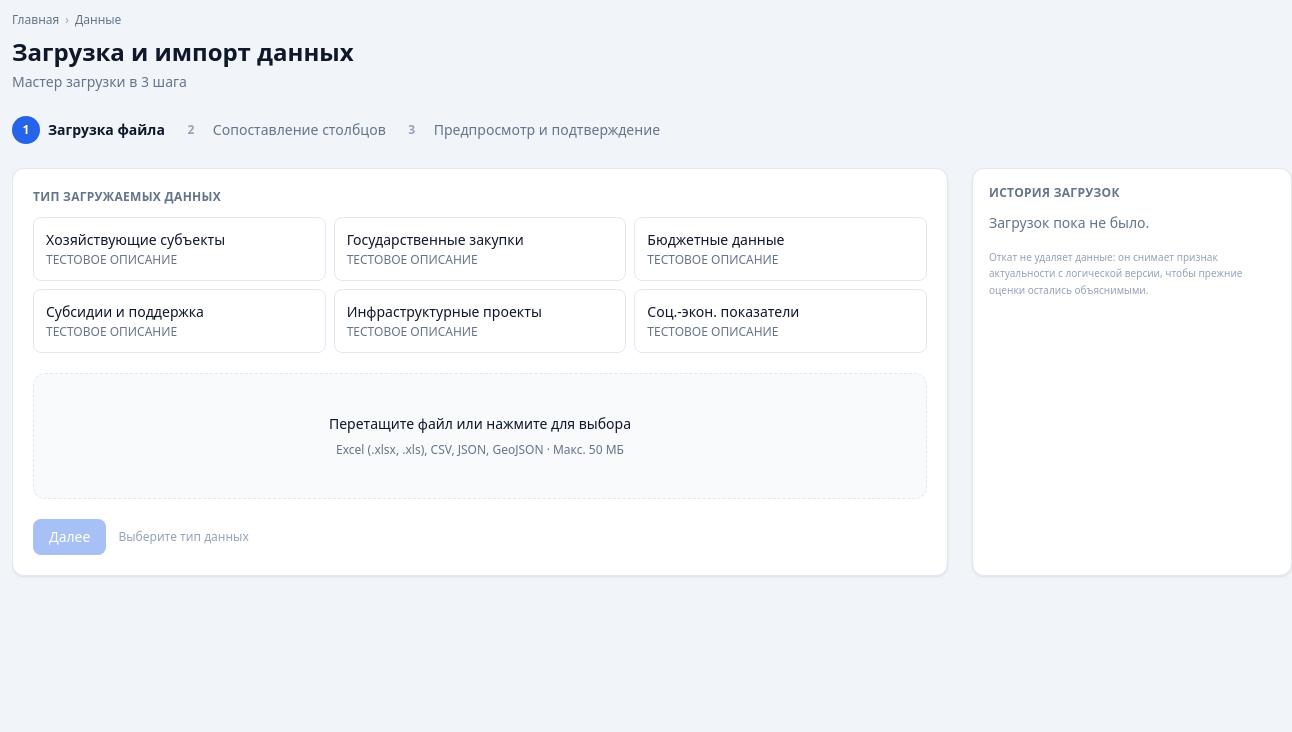
Test case: шаг 1: тип данных и файл › предупреждение о границах загрузки видно до выбора файла
Click the button "Бюджетные данные ТЕСТОВОЕ ОПИСАНИЕ" at (781, 249), box [634,217,927,281]
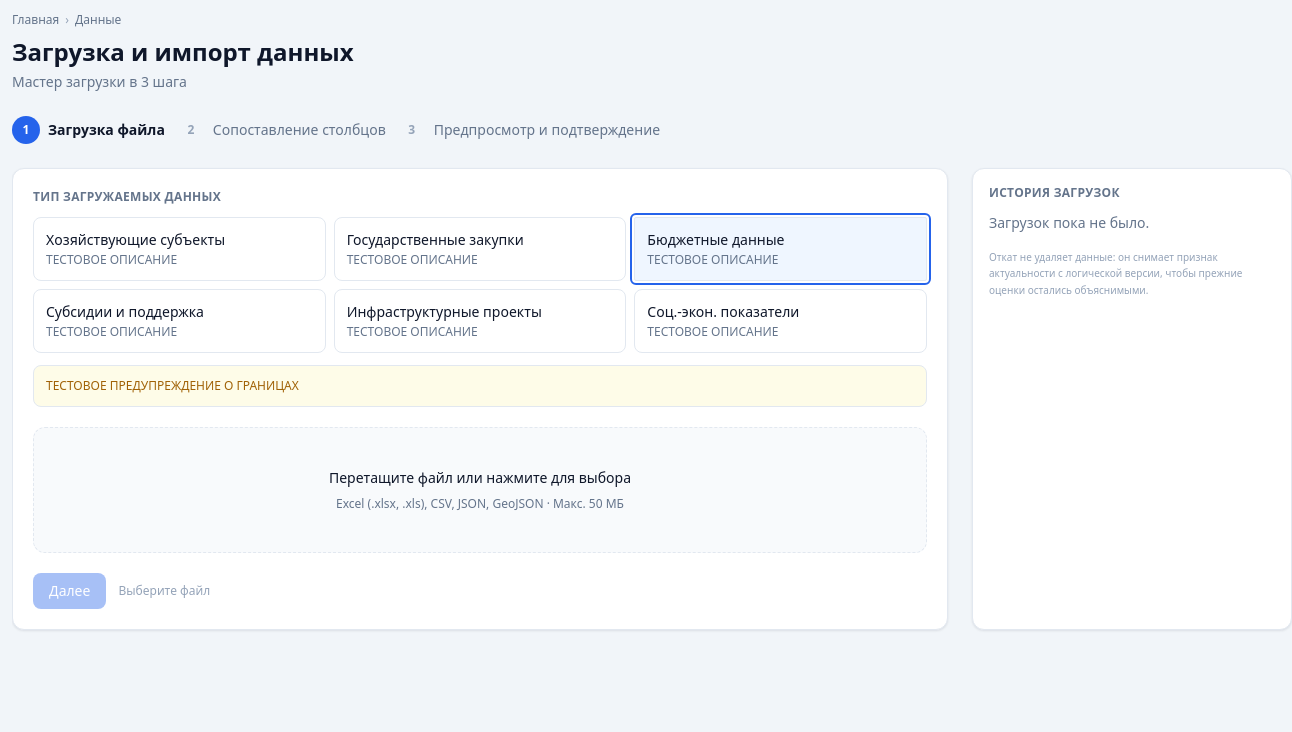
Expected: the text "ТЕСТОВОЕ ПРЕДУПРЕЖДЕНИЕ О ГРАНИЦАХ" is shown, [33,365,927,407]
